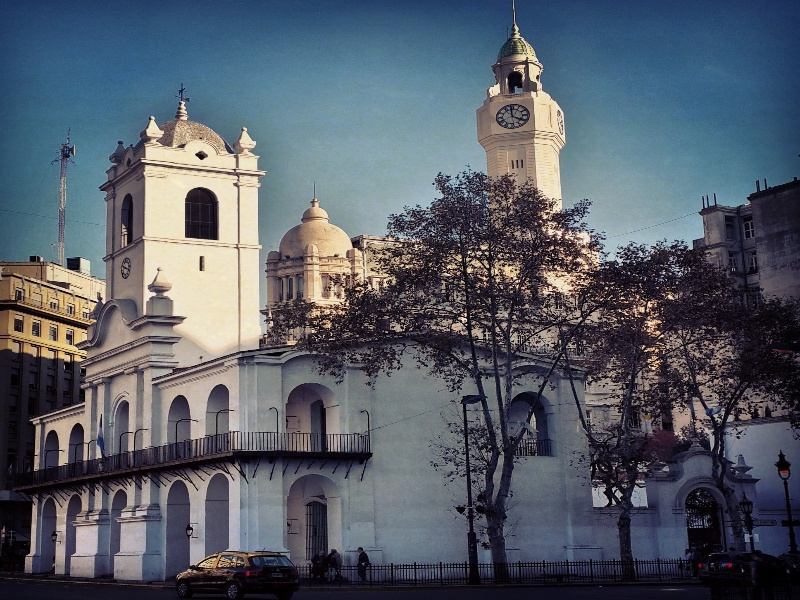cabildo: (9, 78, 373, 583)
